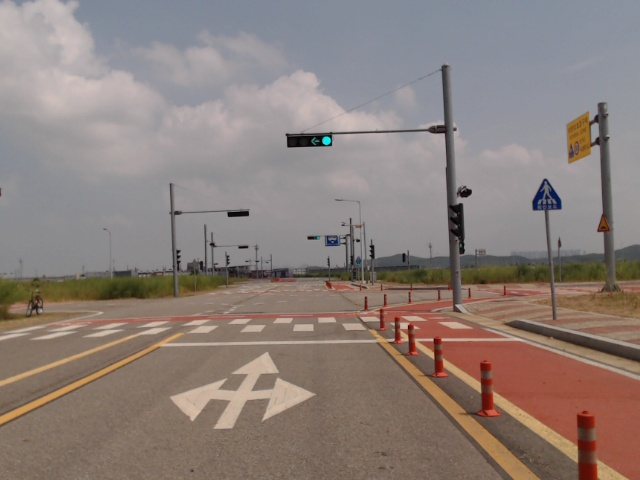all_green_4: (286, 133, 332, 146), (307, 235, 320, 240)
